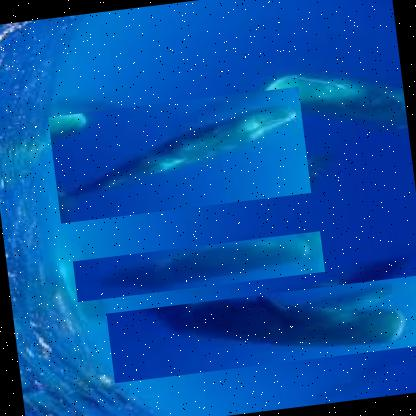blue_whale: (47, 86, 311, 224), (105, 274, 415, 385), (72, 231, 324, 303), (242, 48, 406, 146)
